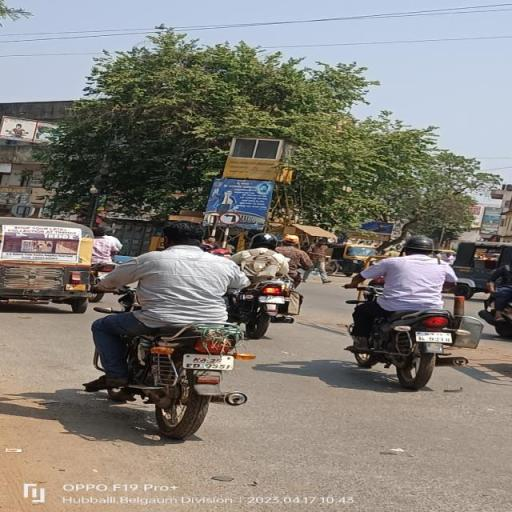bike: (88, 218, 266, 444)
numberplate: (180, 353, 233, 370)
withouthelmet: (163, 222, 207, 246)
